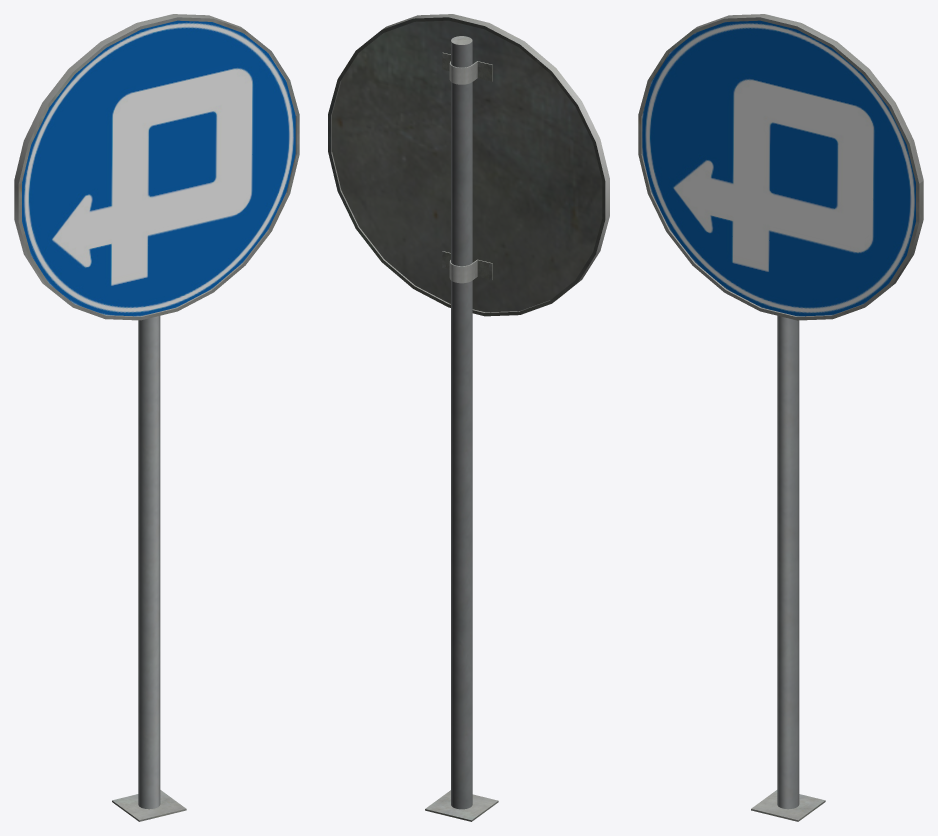
The picture shows the model from 3 angles, left to right: view 1: azimuth 30°, elevation 25°; view 2: azimuth 150°, elevation 25°; view 3: azimuth 330°, elevation 25°; orthographic projection.
Visible parts, largest first — view 1: MainBuilding; view 2: MainBuilding; view 3: MainBuilding.
Part boxes in pixels (x1,y1,x2,y2): MainBuilding: (14,14,299,821); MainBuilding: (328,14,609,821); MainBuilding: (638,14,923,821).
Size of the model in its own units: 0.8923 by 2.4 by 0.15.
1 material, 1 textured.
